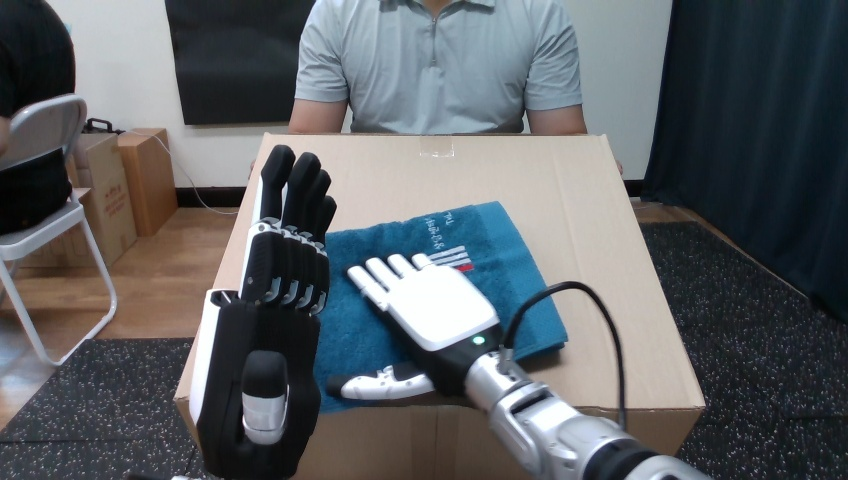left robot hand: (340, 253, 708, 479), (189, 145, 335, 478)
